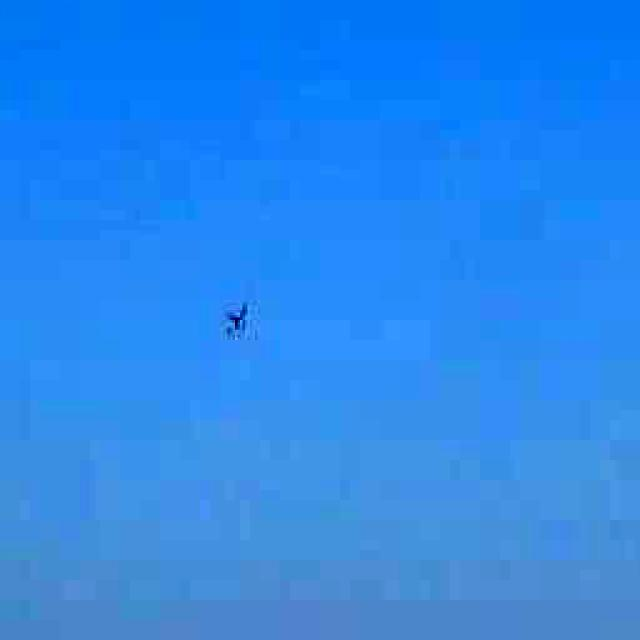bird: (195, 290, 275, 355)
